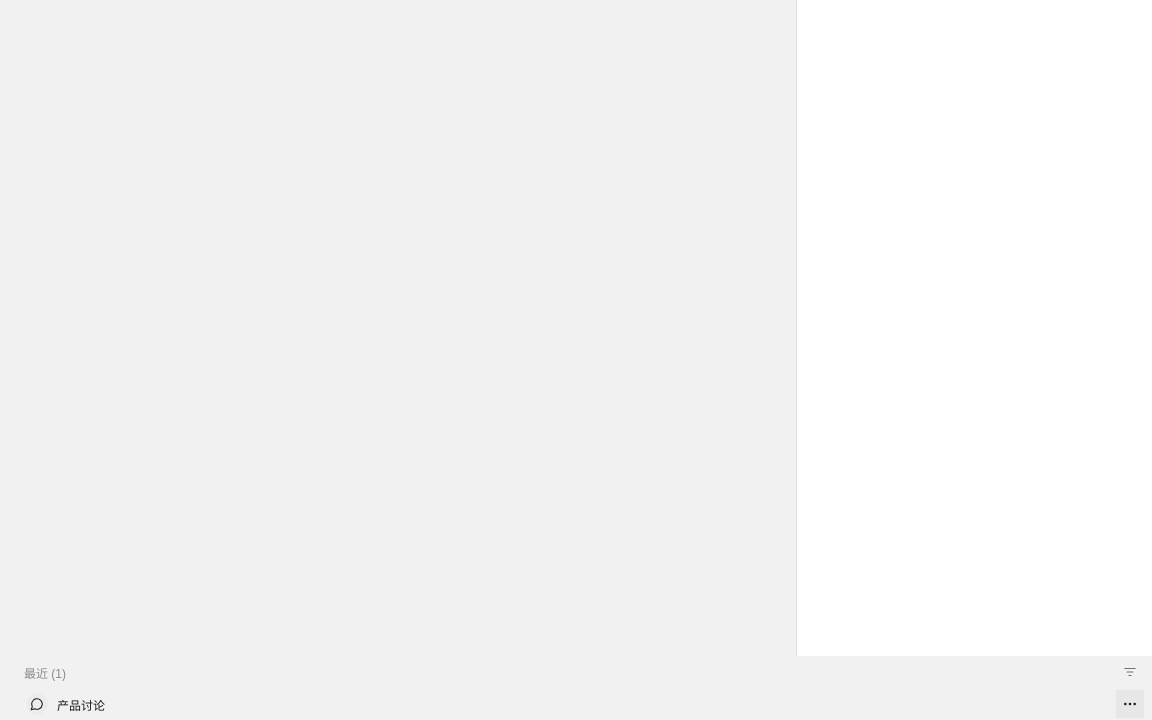
Test: RecentSessions › renames a conversation through the action dialog
(page scrolled)
Click the button named "产品讨论的更多操作": (1130, 704) [1116,690,1144,718]
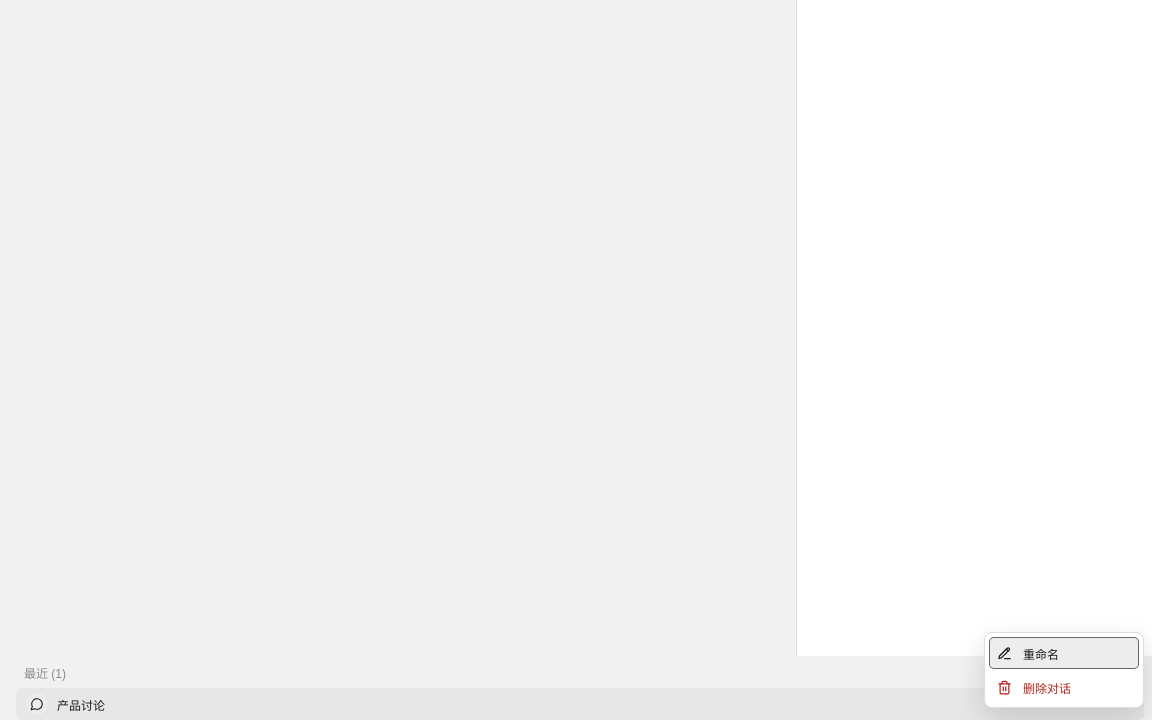
Click the menu item "重命名": (1064, 653) [989,637,1139,669]
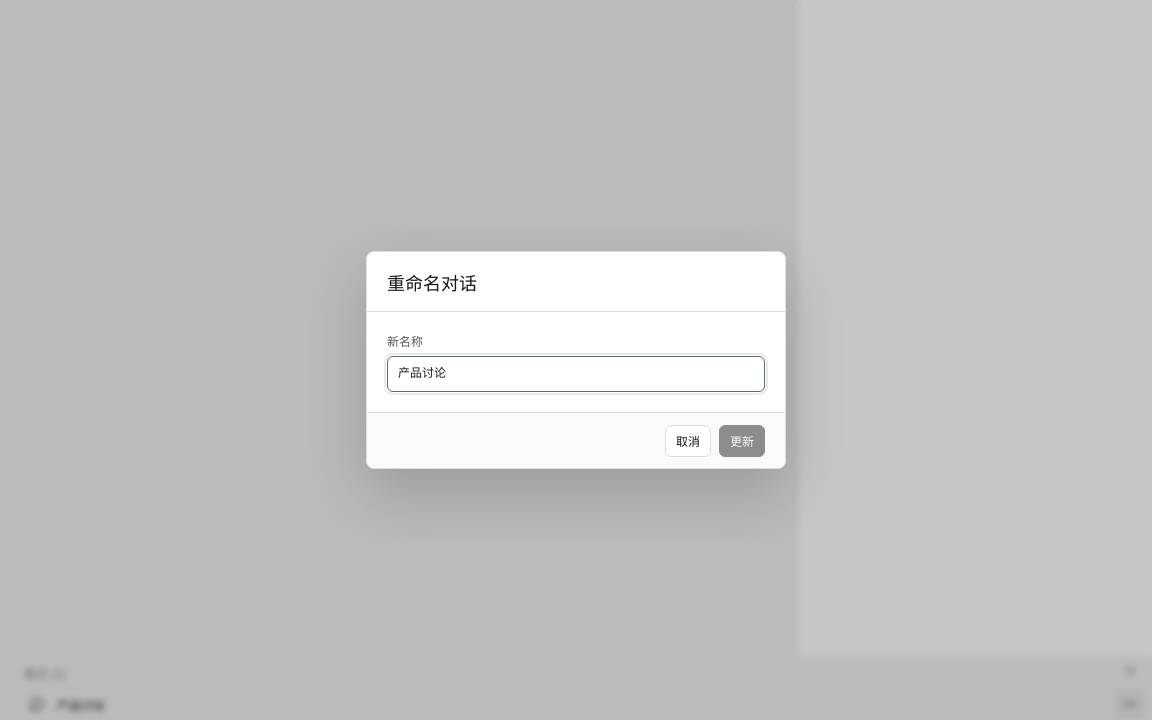
Replace the text in the field labelled "新名称" with "新标题": (576, 374) [387,356,765,392]
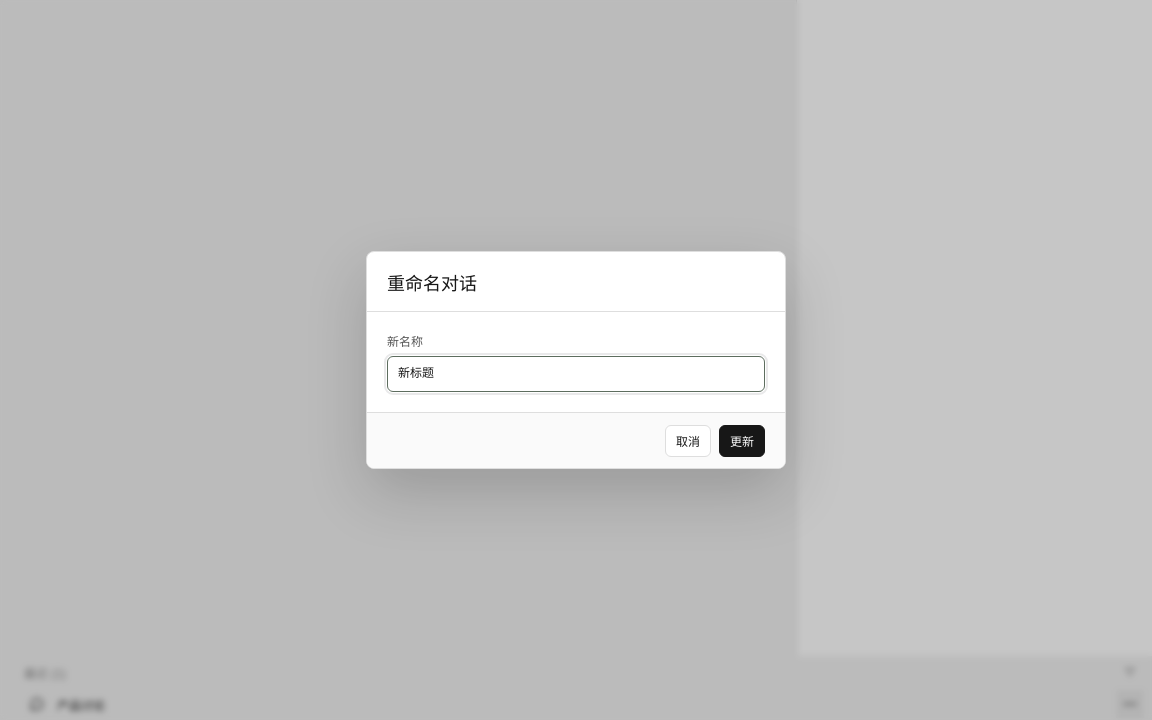
Click the button with aria-label "确认重命名": (742, 440) [719,424,765,456]
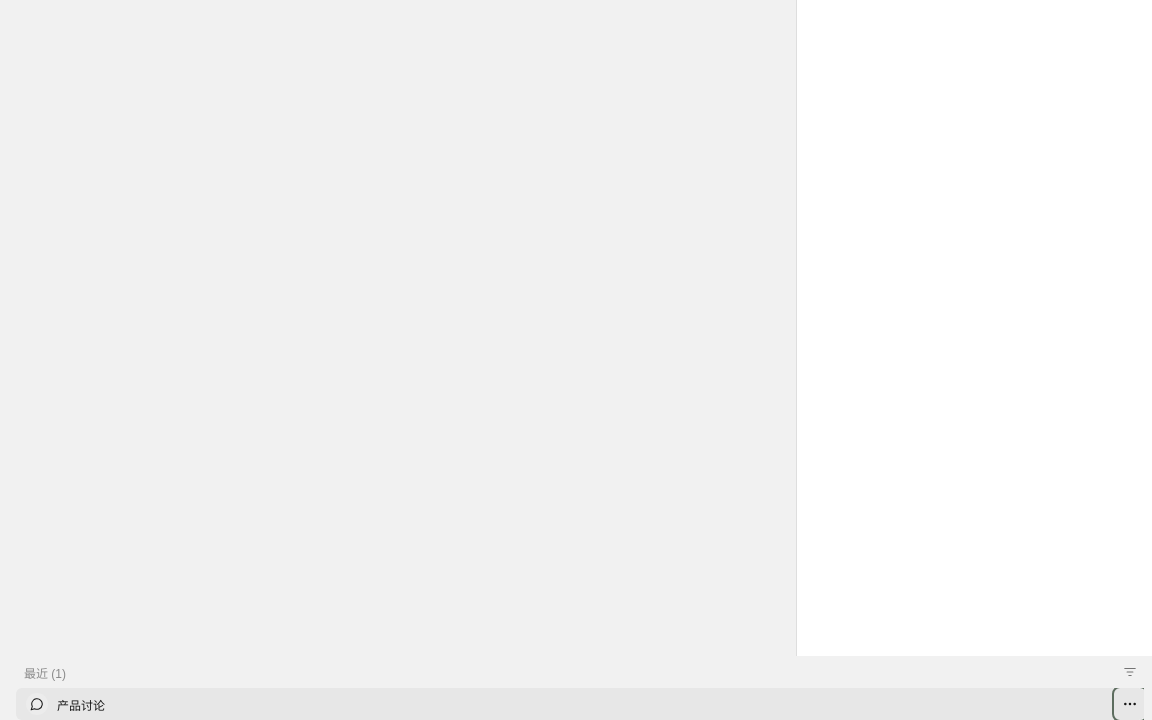
Now the dialog is gone
